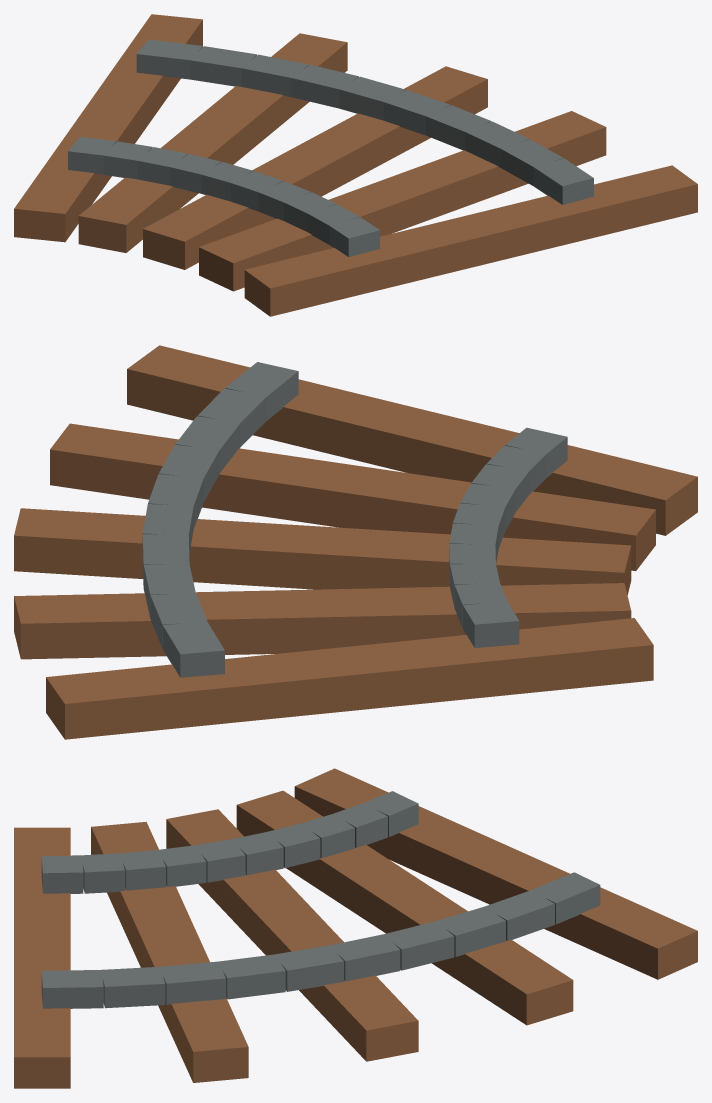
Rendered from board_trilho_curva.glb.
The picture shows the model from 3 angles, top to bottom: view 1: azimuth 30°, elevation 25°; view 2: azimuth 150°, elevation 25°; view 3: azimuth 270°, elevation 25°; orthographic projection. The views are drawn at different scales.
Parts seen in each view (by area): view 1: board_trilho_curva; view 2: board_trilho_curva; view 3: board_trilho_curva.
Boxes of the visible parts, x1=… form: board_trilho_curva: x1=14, y1=14, x2=697, y2=316; board_trilho_curva: x1=14, y1=345, x2=697, y2=739; board_trilho_curva: x1=14, y1=768, x2=697, y2=1088.
Bounding box in the file's own units: 6 × 0.5 × 6.
